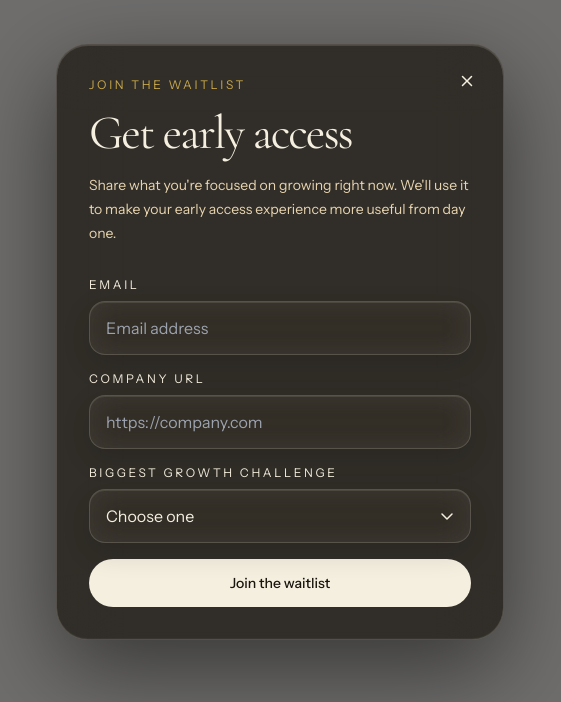
Test: WaitlistModal › requires company URL and growth challenge before submitting
The width and height of the screenshot is (561, 702).
In the field with placeholder "Email address": {"x": 280, "y": 328} [89,301,471,355], type "founder@example.com"
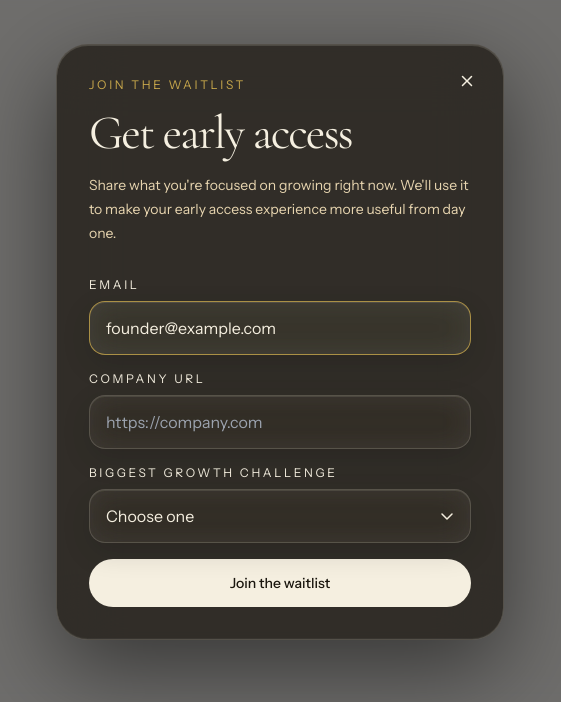
Click the button "Join the waitlist": {"x": 280, "y": 583} [89,559,471,607]
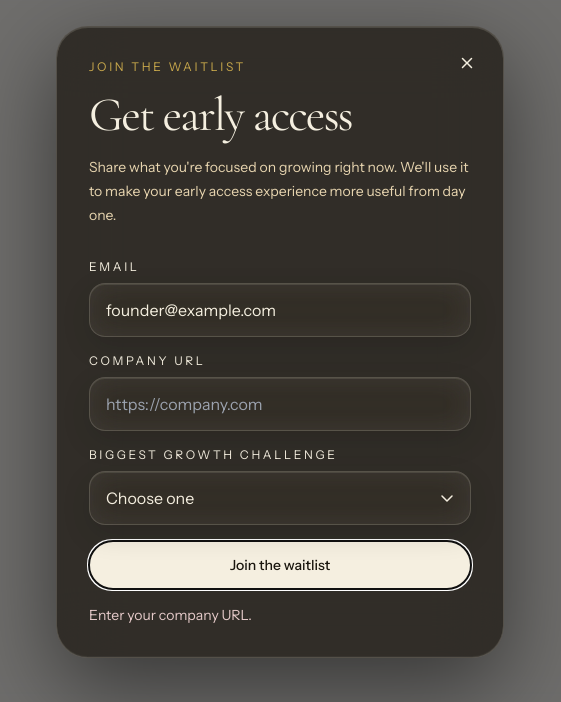
Check: the text "Enter your company URL." is shown, box [89,606,252,624]
